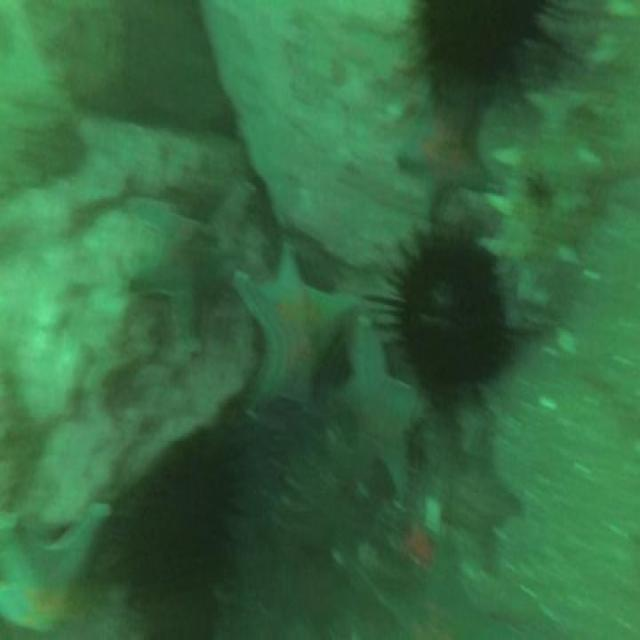echinus: (119, 428, 237, 620), (407, 237, 504, 395), (416, 3, 547, 87)
holothurian: (501, 76, 618, 270)
starfish: (235, 245, 354, 404), (124, 198, 236, 352), (0, 491, 108, 640), (333, 318, 423, 485), (398, 101, 494, 220), (446, 428, 516, 568)
